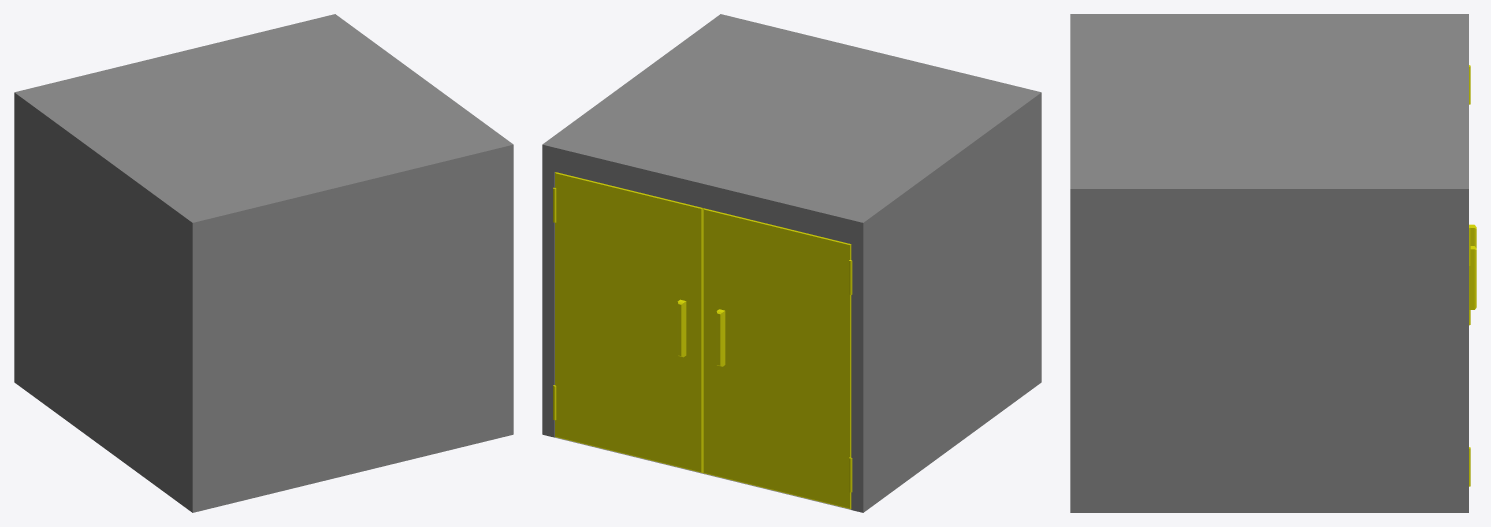
File: SciTable_MidStorage.fbx
3 renders of one model, left to right at view 1: azimuth 30°, elevation 25°; view 2: azimuth 150°, elevation 25°; view 3: azimuth 270°, elevation 25°, orthographic. The views are drawn at different scales.
Parts seen in each view (by area): view 1: SciTable_MidStorage; view 2: SciTable_MidStorage, SchiTable_StorageDoor, SchiTable_StorageDoor1; view 3: SciTable_MidStorage, SchiTable_StorageDoor.
Boxes of the visible parts, box(x1,y1,x2,y2) form: SciTable_MidStorage: box(14, 14, 513, 512); SciTable_MidStorage: box(542, 14, 1041, 512); SchiTable_StorageDoor: box(553, 172, 703, 473); SchiTable_StorageDoor1: box(703, 208, 852, 508); SciTable_MidStorage: box(1070, 14, 1468, 512); SchiTable_StorageDoor: box(1469, 226, 1476, 486).
Bounding box in the file's own units: 123 × 106 × 120.
